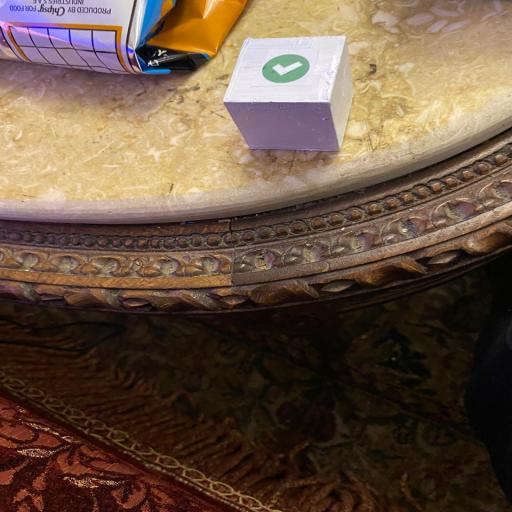Confirm: (221, 36, 356, 153)
